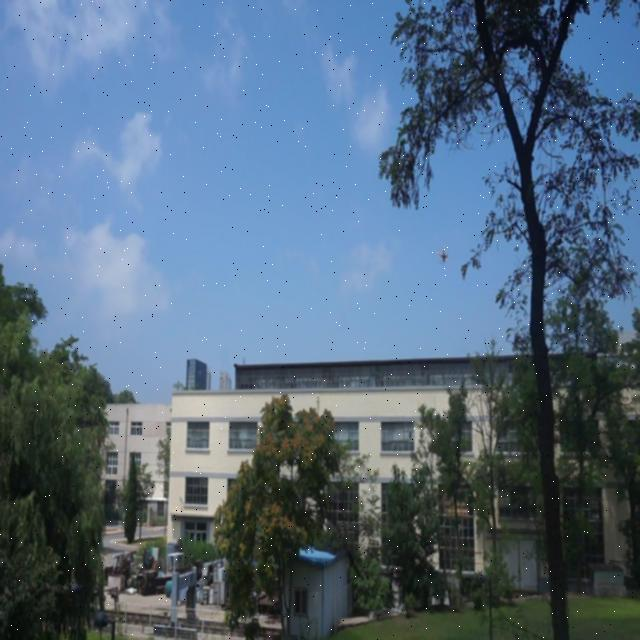UAV: (434, 246, 452, 264)
